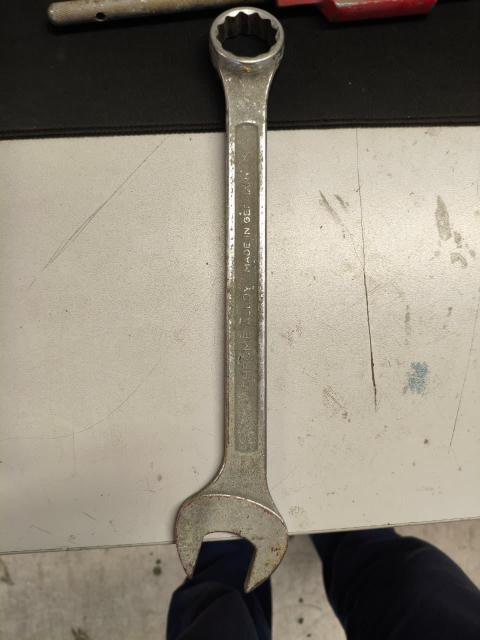Metal: (173, 13, 305, 592)
